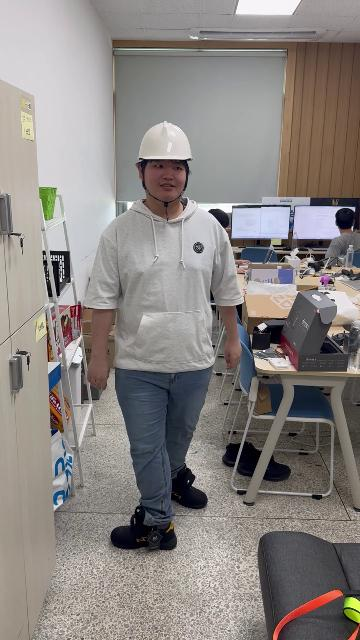helmet_worn: (135, 120, 194, 162)
shoe_not_worn: (223, 440, 287, 479), (222, 441, 249, 467)
shoe_worn: (109, 504, 178, 550), (169, 465, 208, 509)
vest_not_worn: (104, 206, 226, 370)
